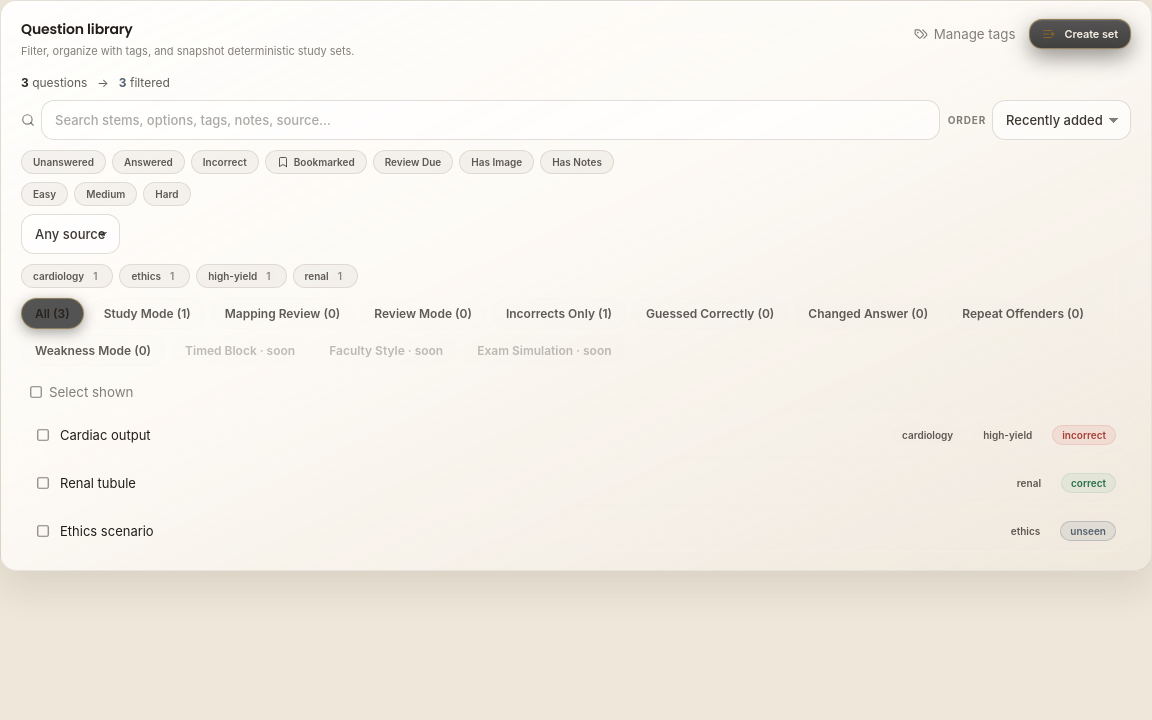
it: BankBrowser library › debounced search matches stem text
Step 1. Type "ethics" into the field named "Search question bank" → (490, 120), box [41,100,940,140]
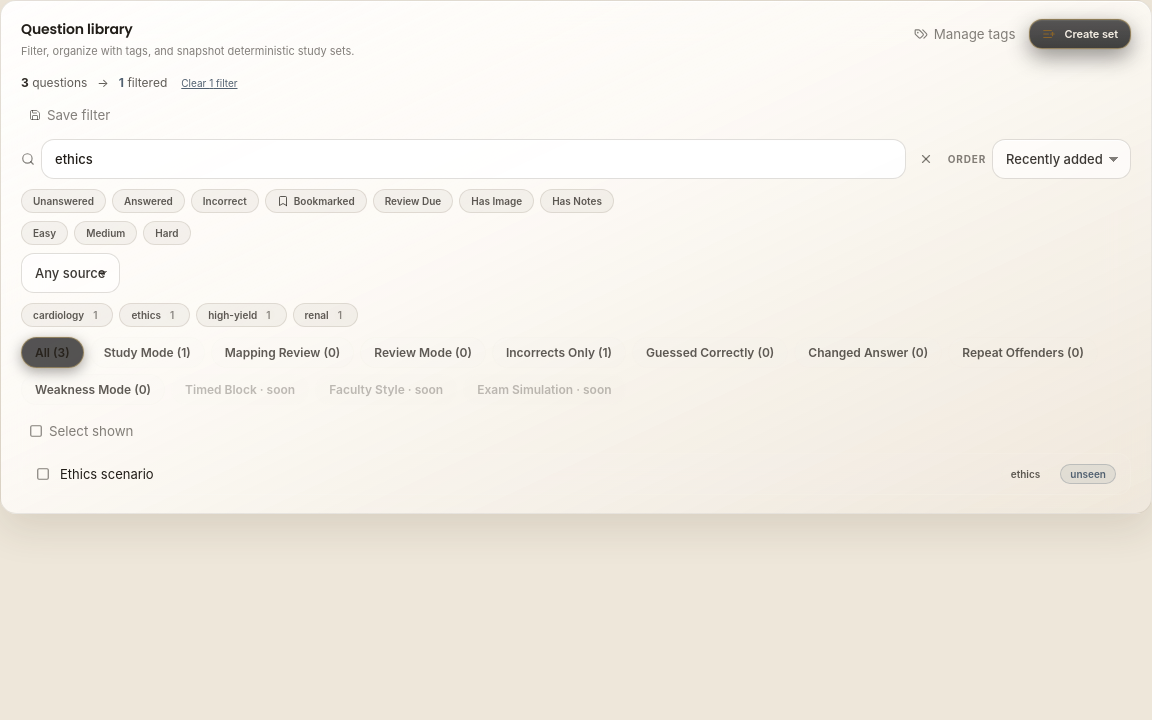
Expected: the button "Ethics scenario" is shown, [60,466,991,482]
Expected: the button "Cardiac output" is gone
